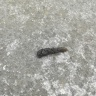Dog: (37, 46, 68, 58)
